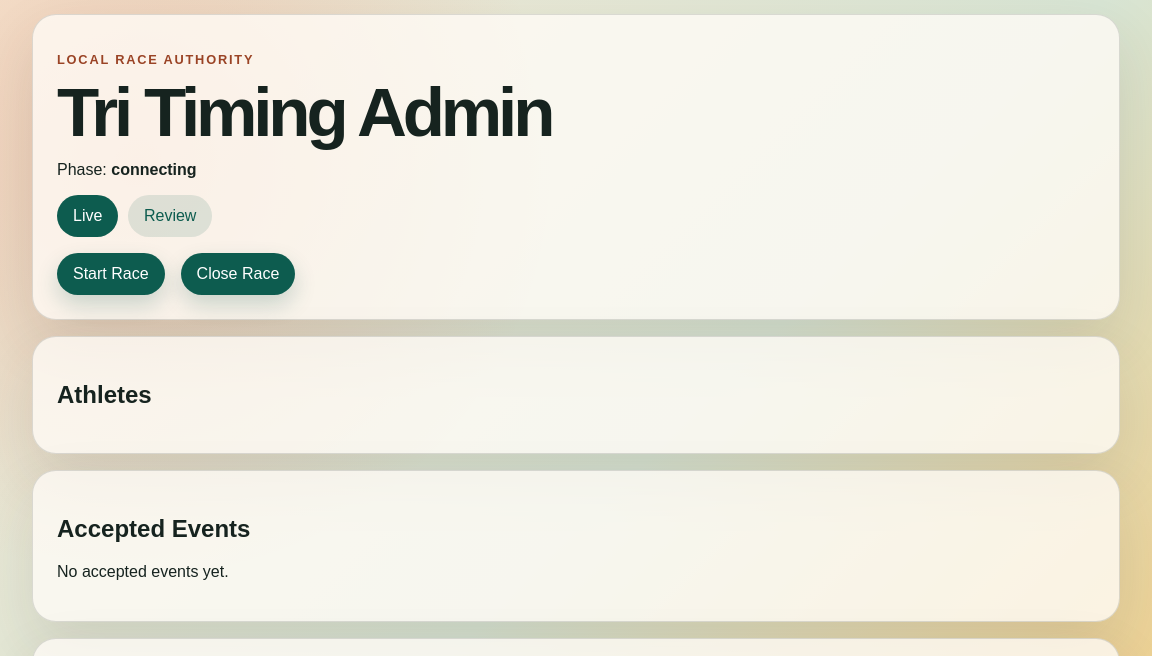
it: review mode requires corrected time before confirmation
The width and height of the screenshot is (1152, 656).
Click the tab "Review" at {"x": 170, "y": 216}, box [128, 195, 212, 237]
(page scrolled)
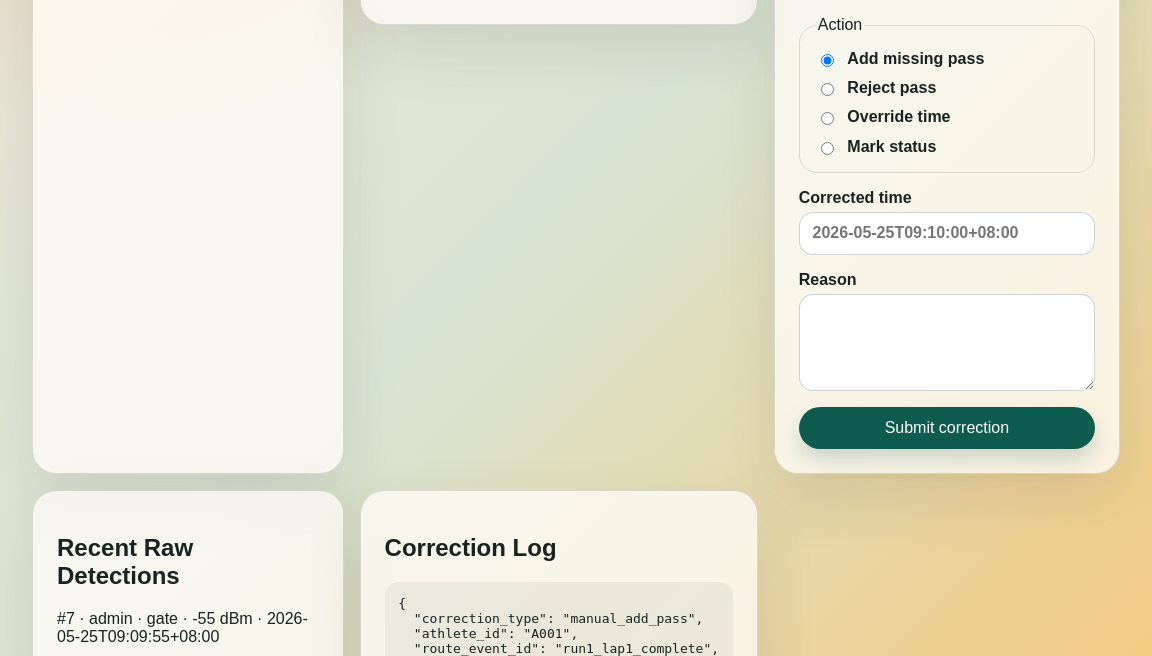
Type "Saw athlete cross" into the text box labelled "Reason" at {"x": 947, "y": 342}, box [799, 294, 1095, 391]
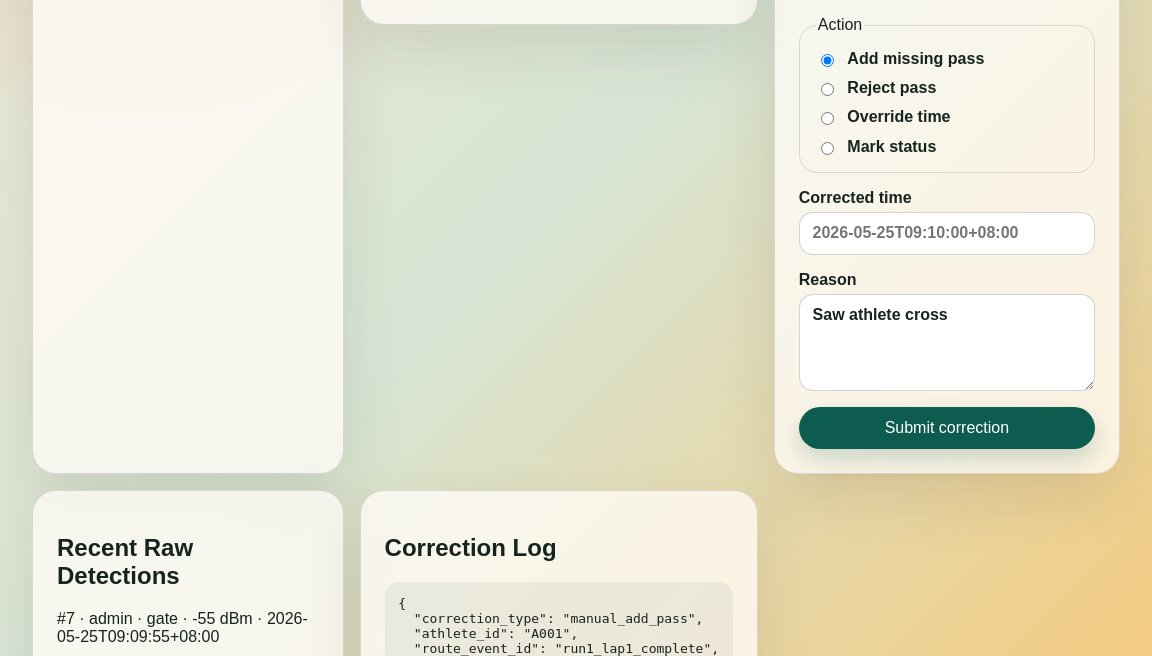
Click the button "Submit correction" at {"x": 947, "y": 428}, box [799, 407, 1095, 449]
(page scrolled)
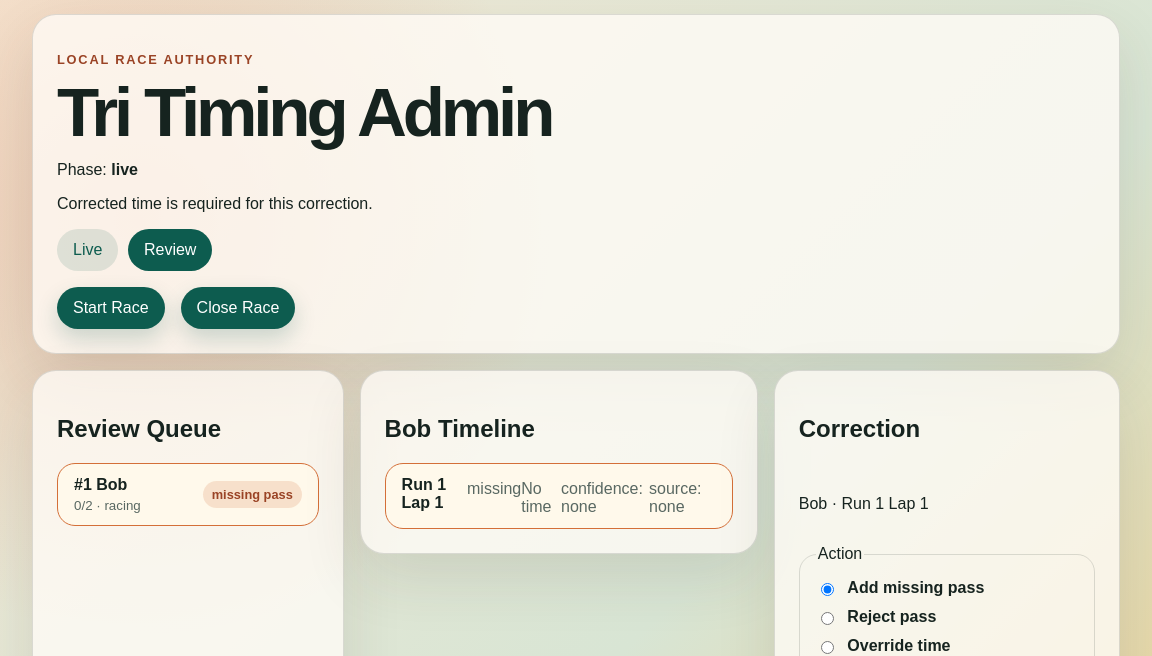
Result: the message shows "Corrected time is required" at [57, 195, 373, 212]
